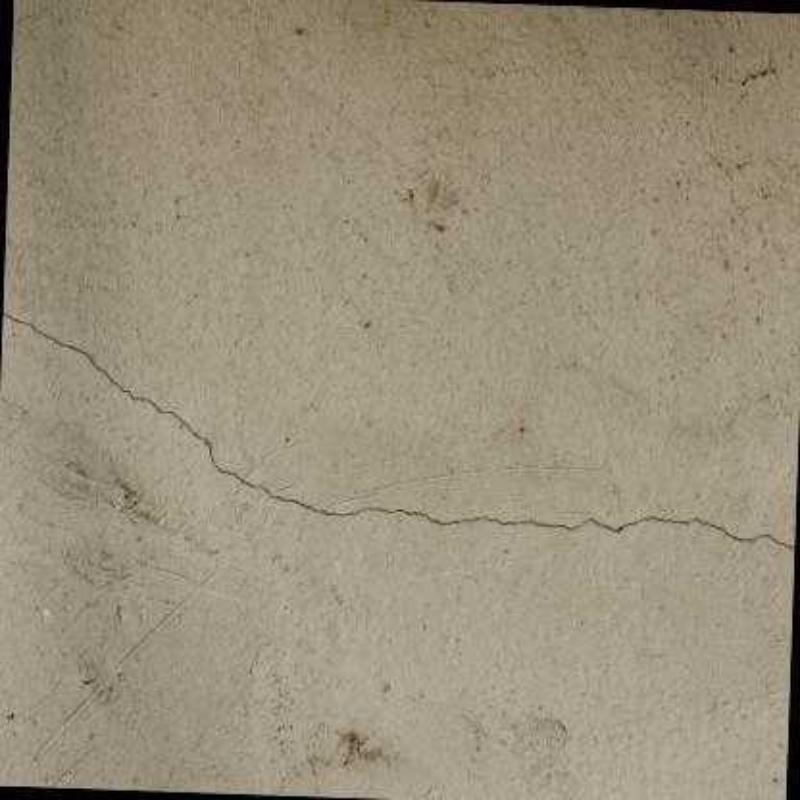pothole: (3, 306, 795, 550)
